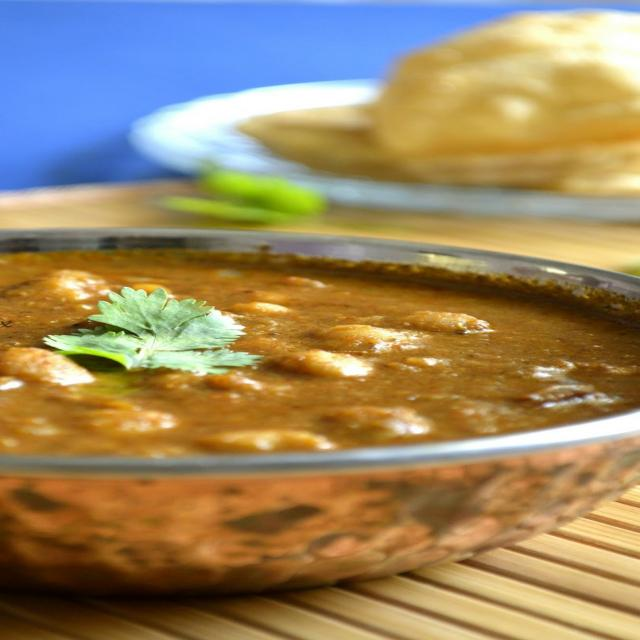Bhatura: (377, 10, 640, 185)
Chole: (0, 251, 640, 458)
